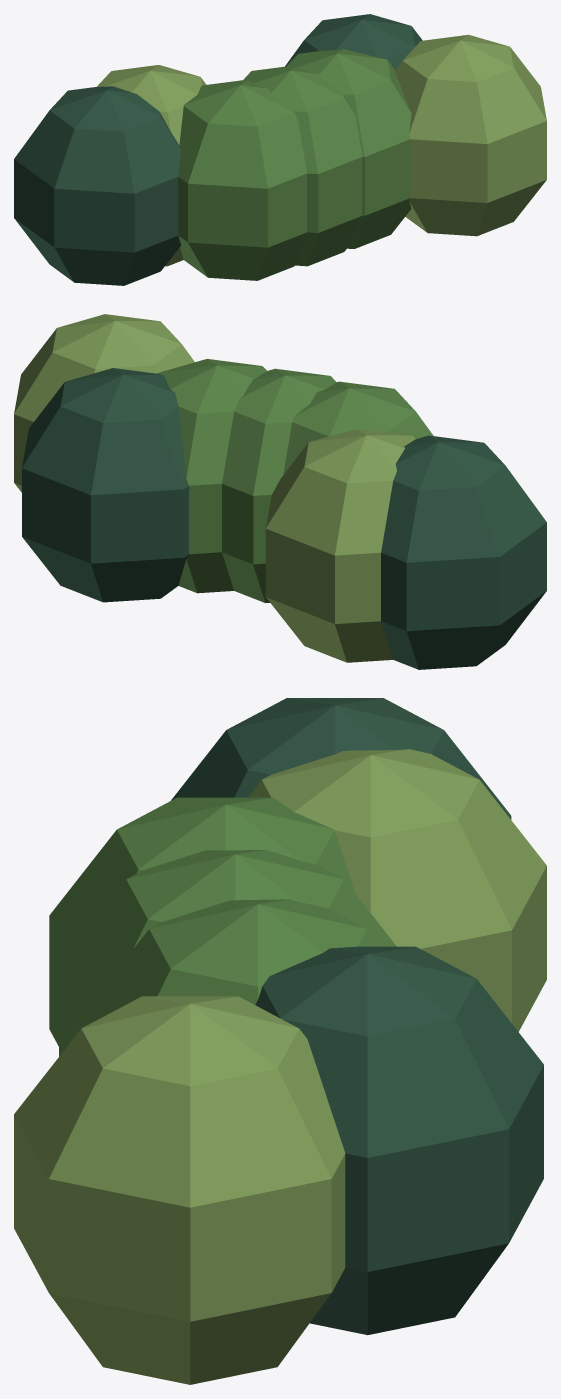
File: nature-hedge.lod0.glb
3 views of the same model, one above another, from view 1: azimuth 30°, elevation 25°; view 2: azimuth 150°, elevation 25°; view 3: azimuth 270°, elevation 25° (orthographic). The views are drawn at different scales.
Parts seen in each view (by area): view 1: nature-hedge__body; view 2: nature-hedge__body; view 3: nature-hedge__body.
Boxes of the visible parts, x1,y1,x2,y2 form: nature-hedge__body: (14,14,546,285); nature-hedge__body: (14,314,546,669); nature-hedge__body: (14,698,546,1384).
Bounding box in the file's own units: 2.32 × 0.9 × 1.18.
